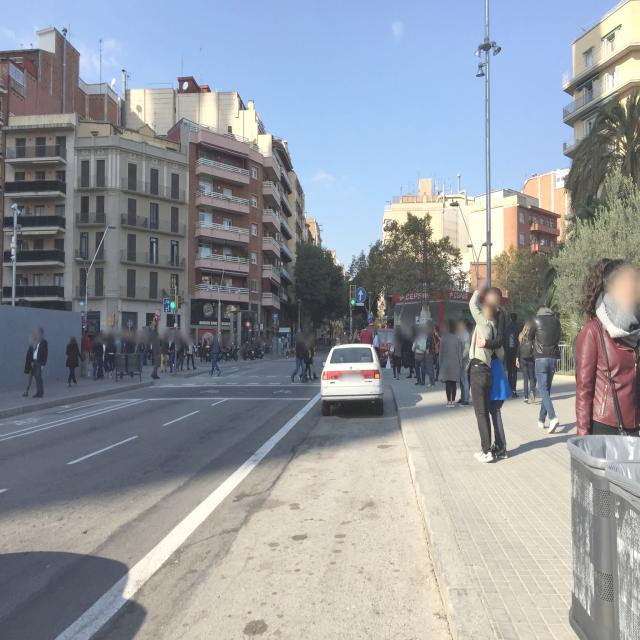car: (320, 343, 384, 416)
